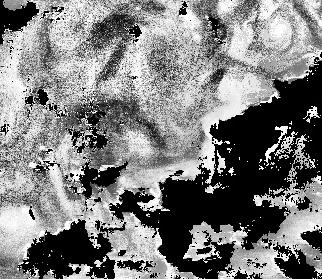CE: (260, 8, 299, 55)
